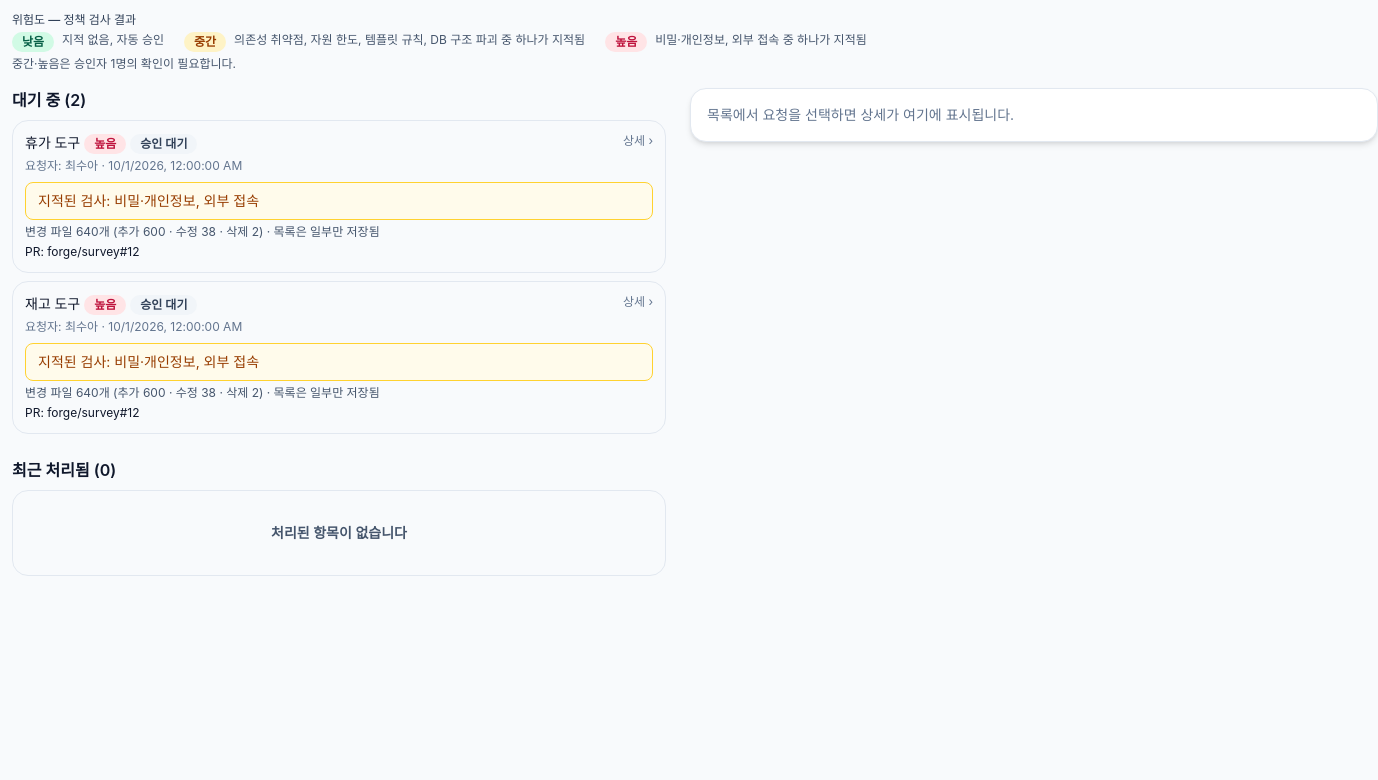
every section is its own card (jsdom cannot see appearance, so structure and heading level only) › gives 점검 a card per section in the spec order, and the agent's words last in their own dashed box
Step 1. Click the list item with aria-label "휴가 도구 요청 상세 보기" → [339, 196], box top-left (12, 120), bottom-right (666, 273)
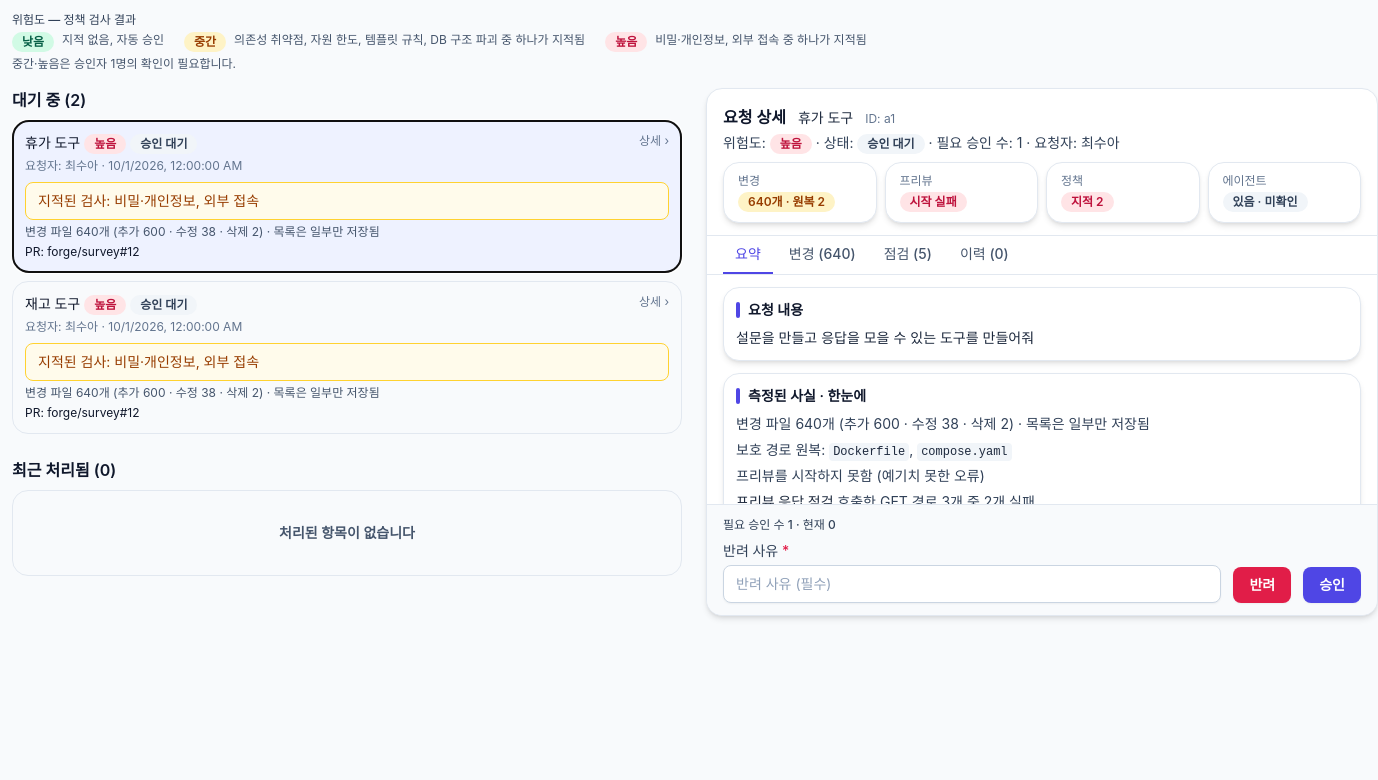
Step 2. Click the tab "점검 (5)" → [908, 255], box top-left (872, 236), bottom-right (944, 274)
(page scrolled)
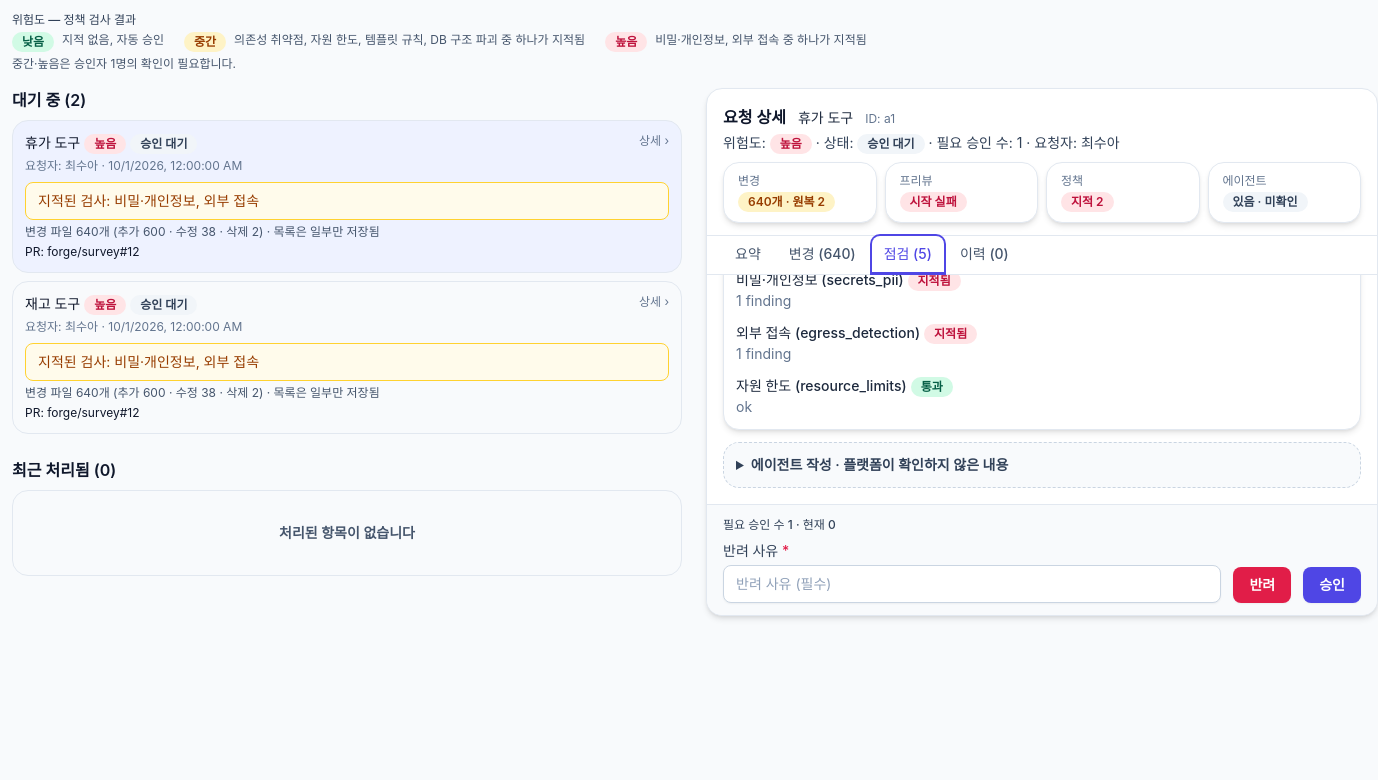
Result: the text "에이전트 작성 · 플랫폼이 확인하지 않은 내용" is shown at top-left (723, 442), bottom-right (1361, 488)
